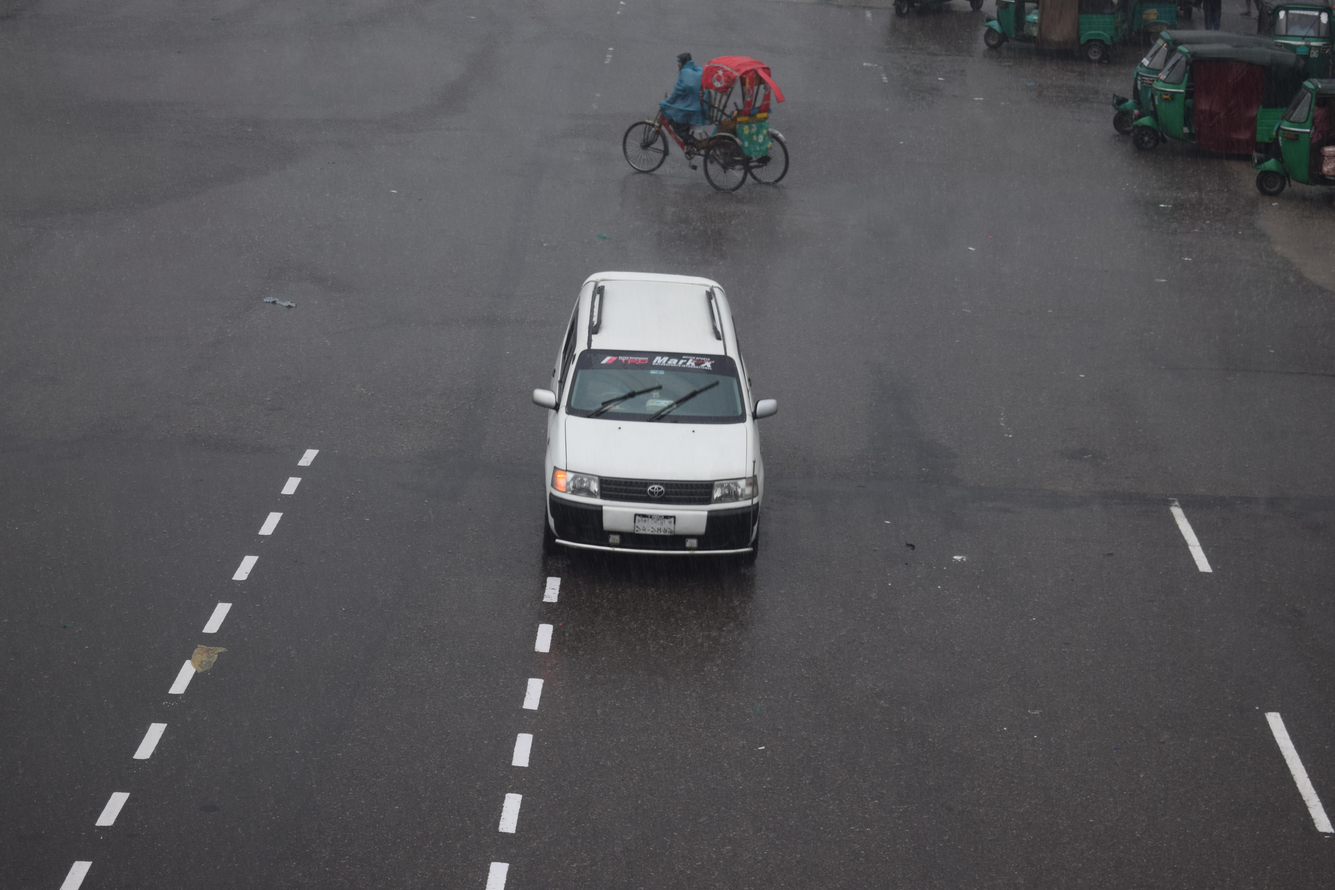Car: (484, 242, 865, 627), (590, 25, 827, 217)
